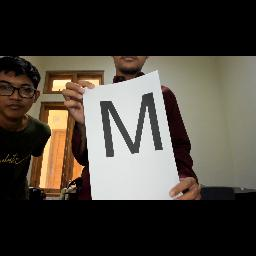m: (94, 93, 172, 163)
